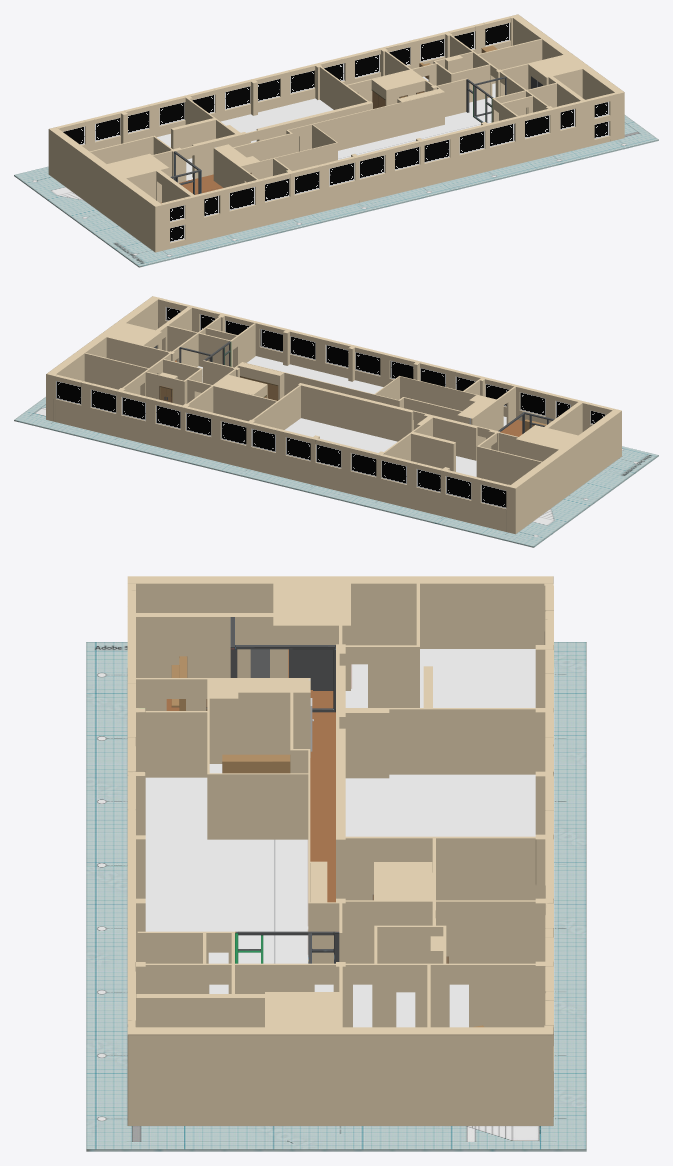
Rendered from Level1.fbx.
3 views of the same model, one above another, from view 1: azimuth 30°, elevation 25°; view 2: azimuth 150°, elevation 25°; view 3: azimuth 270°, elevation 25° (orthographic). The views are drawn at different scales.
Parts seen in each view (by area): view 1: cube, cube_1, cube_32, cube_90, cube_2, cube_30, cube_39, cube_66, cube_54, cube_86, cube_87, cube_17 (+50 smaller); view 2: cube, cube_1, cube_39, cube_2, cube_90, cube_98, cube_52, cube_66, cube_30, cube_73, cube_87, cube_86 (+54 smaller); view 3: cube, cube_2, cube_90, cube_1, cube_98, cube_54, cube_88, cube_55, cube_18, cube_31, cube_42, cube_65 (+22 smaller).
Boxes of the visible parts, box(x1,y1,x2,y2) form: cube: box(14, 115, 658, 267); cube_1: box(48, 127, 162, 252); cube_32: box(299, 91, 444, 151); cube_90: box(157, 76, 495, 193); cube_2: box(511, 14, 624, 139); cube_30: box(251, 142, 337, 179); cube_39: box(256, 102, 368, 152); cube_66: box(478, 38, 542, 83); cube_54: box(320, 66, 368, 109); cube_86: box(192, 132, 247, 178); cube_87: box(171, 118, 216, 159); cube_17: box(184, 193, 204, 244); cube: box(14, 397, 658, 547); cube_1: box(508, 409, 621, 534); cube_39: box(302, 384, 413, 441); cube_2: box(46, 296, 159, 421); cube_90: box(202, 377, 476, 476); cube_98: box(175, 356, 522, 436); cube_52: box(478, 446, 541, 484); cube_66: box(84, 353, 148, 395); cube_30: box(399, 376, 485, 411); cube_73: box(213, 385, 265, 421); cube_87: box(410, 431, 455, 471); cube_86: box(423, 413, 478, 460); cube: box(86, 642, 586, 1151); cube_2: box(127, 1027, 553, 1125); cube_90: box(274, 649, 535, 1027); cube_1: box(127, 576, 553, 648); cube_98: box(145, 699, 274, 993); cube_54: box(345, 836, 535, 900); cube_88: box(389, 708, 535, 774); cube_55: box(345, 900, 535, 963); cube_18: box(136, 613, 250, 677); cube_31: box(209, 773, 308, 839); cube_42: box(238, 691, 310, 757); cube_65: box(469, 963, 535, 1027).
Size of the model in its own units: 3125 by 275 by 1303.
13 materials, 13 textured.
